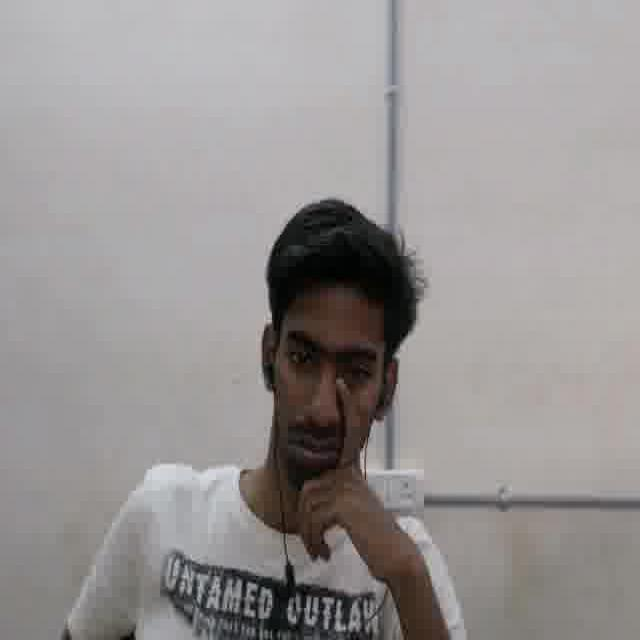Boredom: (267, 280, 386, 487)
